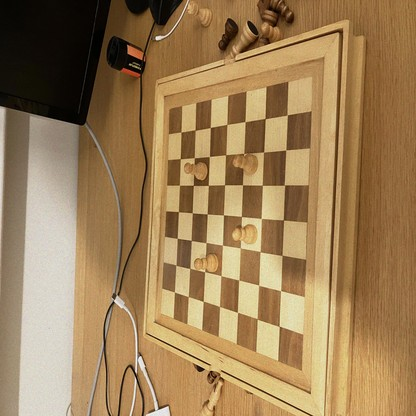bishop_white: (200, 377, 224, 416)
pawn_black: (269, 0, 294, 24), (219, 18, 238, 49)
pawn_white: (233, 153, 258, 175), (232, 225, 257, 243), (184, 162, 208, 180), (262, 24, 284, 43), (196, 254, 219, 272)
rock_white: (188, 2, 212, 27)
